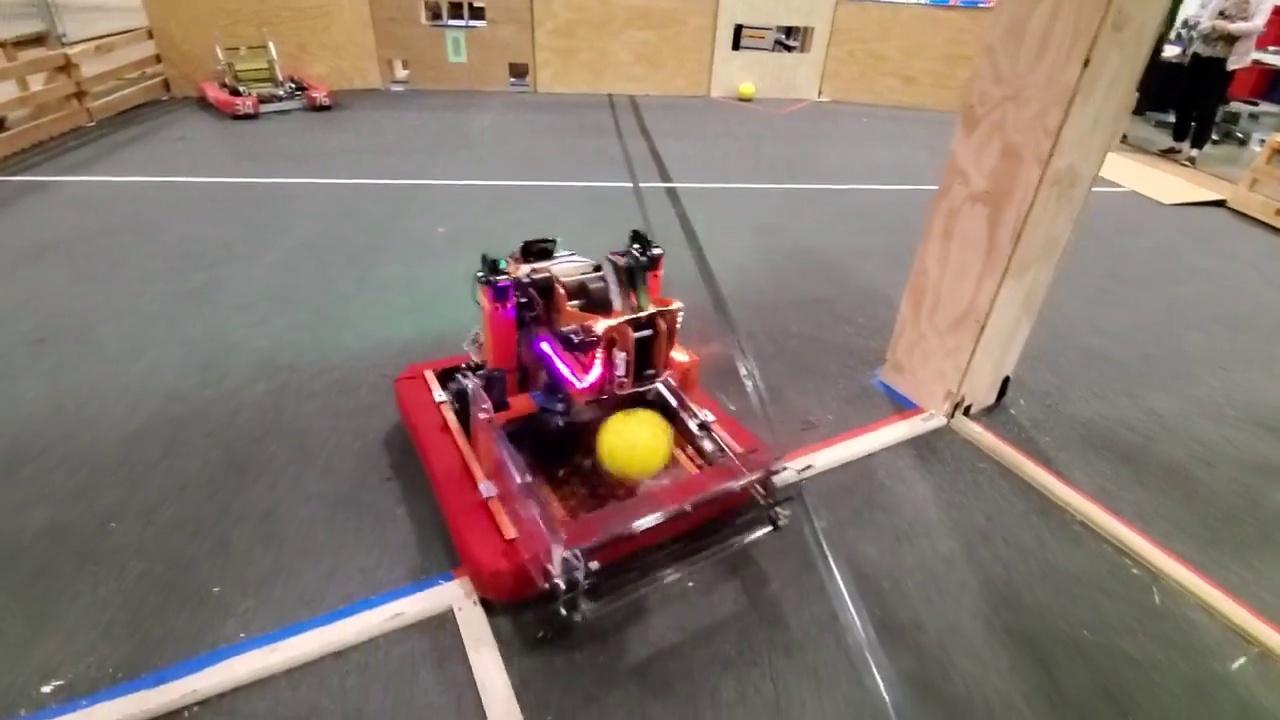robot: (380, 225, 805, 621), (193, 40, 338, 120)
